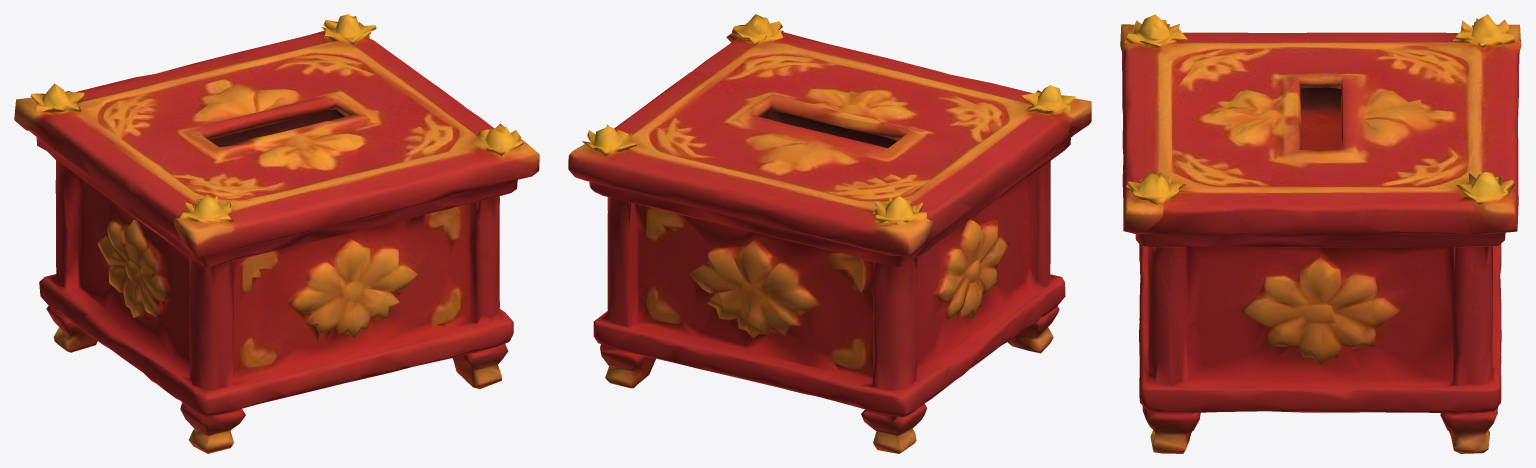
The model's file is donation_box.glb.
3 views of the same model, side by side, from view 1: azimuth 30°, elevation 25°; view 2: azimuth 150°, elevation 25°; view 3: azimuth 270°, elevation 25° (orthographic). The views are drawn at different scales.
Parts seen in each view (by area): view 1: tripo_node_3d298157-b978-4cca-964a-7949c6a651f7; view 2: tripo_node_3d298157-b978-4cca-964a-7949c6a651f7; view 3: tripo_node_3d298157-b978-4cca-964a-7949c6a651f7.
Part boxes in pixels (left/top/right/bottom): tripo_node_3d298157-b978-4cca-964a-7949c6a651f7: left=14, top=14, right=539, bottom=453; tripo_node_3d298157-b978-4cca-964a-7949c6a651f7: left=568, top=14, right=1091, bottom=453; tripo_node_3d298157-b978-4cca-964a-7949c6a651f7: left=1120, top=14, right=1521, bottom=453.
Bounding box in the file's own units: 1 × 0.7082 × 0.9067.
Materials: 1 (1 with a texture image).
